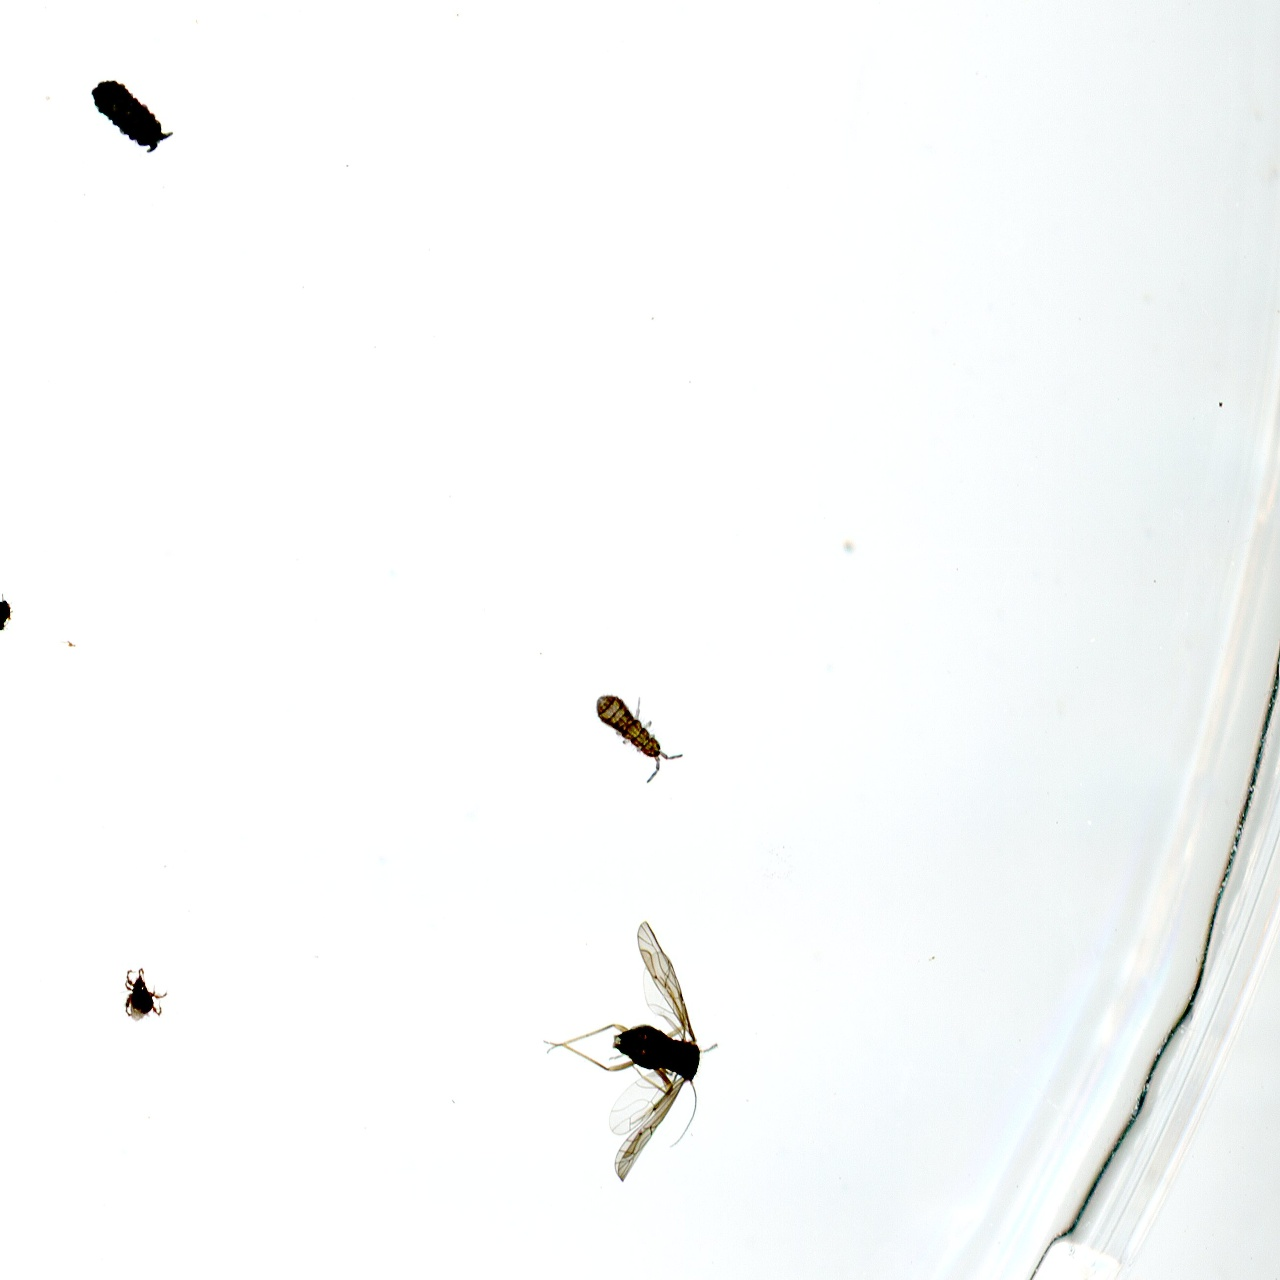arthropod: (540, 915, 721, 1186), (580, 672, 695, 792), (79, 67, 179, 165), (114, 966, 170, 1024)
